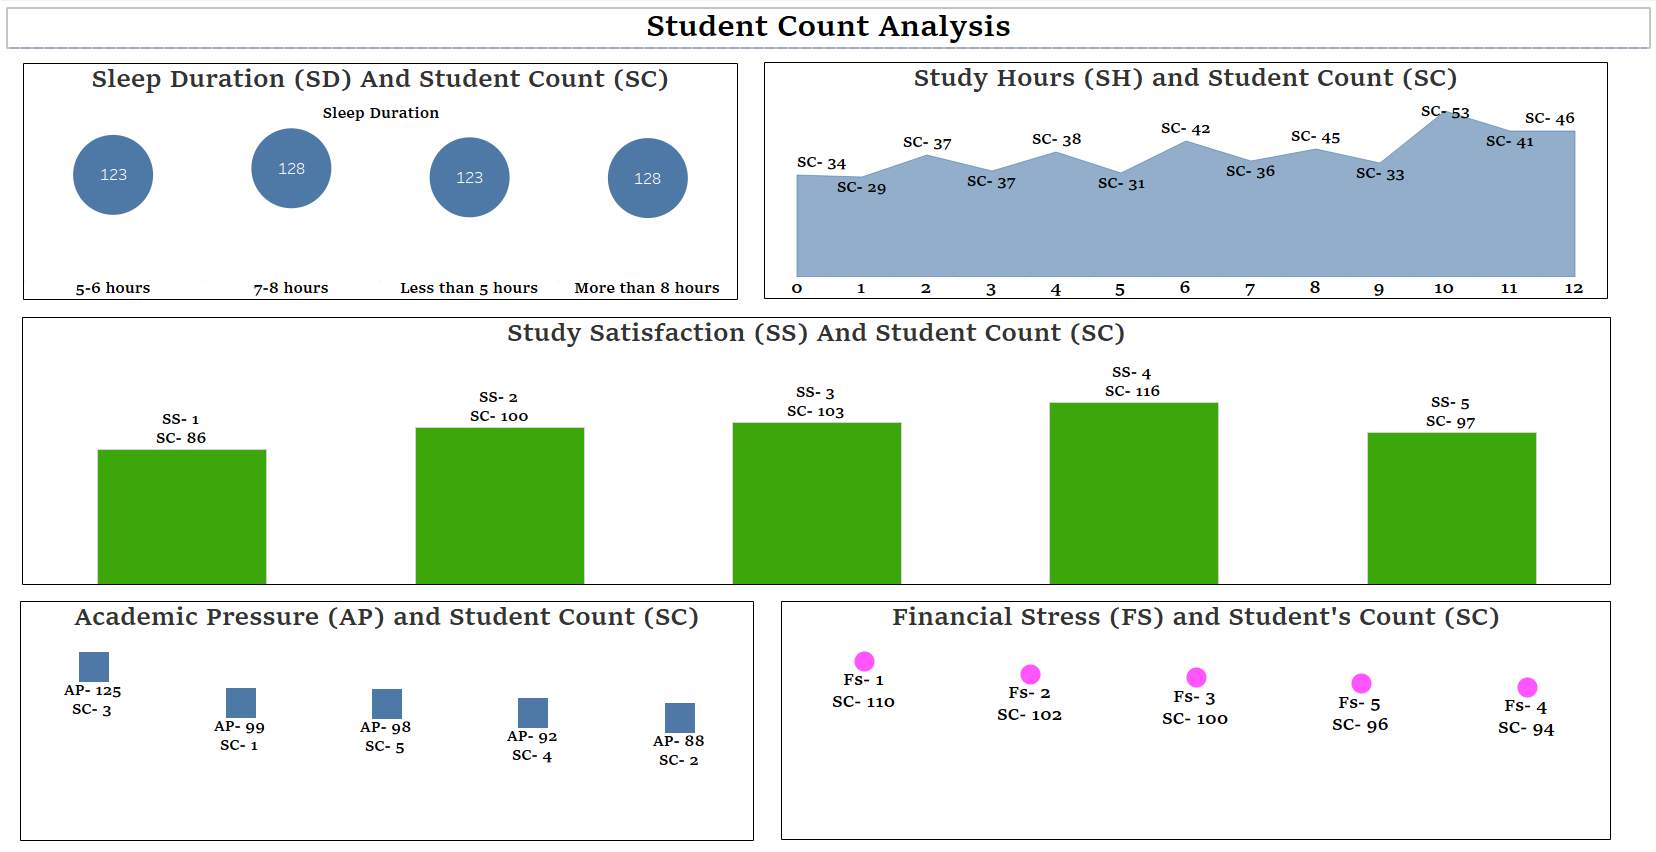

The dashboard page shown, as its layout file describes it:
{"tool":"tableau","page":{"name":"Student Count Analysis ","canvas":[1000,1000],"units":"permille","ordinal":0},"visuals":[{"type":"title","box":[4.8,9.4,990.3,44.6]},{"type":"worksheet","title":"SH And SC","mark":"Area","rows":["Index_Column"],"cols":["Study_Hours"],"box":[461.1,71.7,509.4,278.5]},{"type":"worksheet","title":"SD And SC","mark":"Pie","rows":["Index_Column"],"cols":["Sleep_Duration"],"box":[13.9,72.9,431.5,278.5]},{"type":"worksheet","title":"SS And SC","mark":"Automatic","rows":["Index_Column"],"cols":["Study_Satisfaction"],"box":[13.3,371.3,959,314.9]},{"type":"worksheet","title":"AP and SC","mark":"Square","rows":["Index_Column"],"cols":["Academic_Pressure"],"box":[12.1,705.1,443,282]},{"type":"worksheet","title":"FC And SC","mark":"Circle","rows":["Index_Column"],"cols":["Financial_Stress"],"box":[471.3,705.1,500.9,280.9]}]}

Visuals, with their boxes on the dashboard's canvas, which has no fixed pixel size, in thousandths of its width and height (x1, y1, x2, y2). These are canvas units, not pixel positions in the 1656x852 screenshot, which may show the page scaled, cropped or inside an application window:
title: bbox=(5, 9, 995, 54)
"SH And SC" worksheet (Area marks): bbox=(461, 72, 970, 350)
"SD And SC" worksheet (Pie marks): bbox=(14, 73, 445, 351)
"SS And SC" worksheet: bbox=(13, 371, 972, 686)
"AP and SC" worksheet (Square marks): bbox=(12, 705, 455, 987)
"FC And SC" worksheet (Circle marks): bbox=(471, 705, 972, 986)
